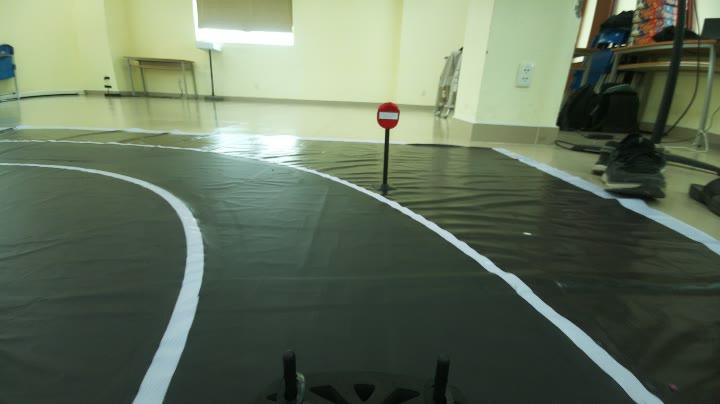no_entry: (372, 96, 402, 132)
